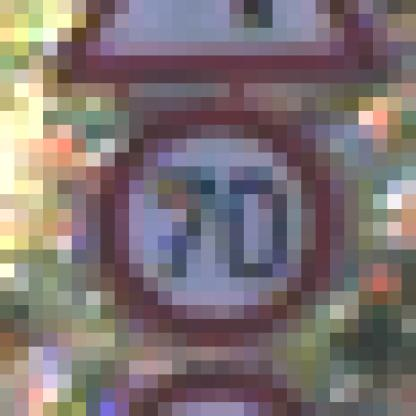Speed Limit 70: (98, 101, 339, 342)
